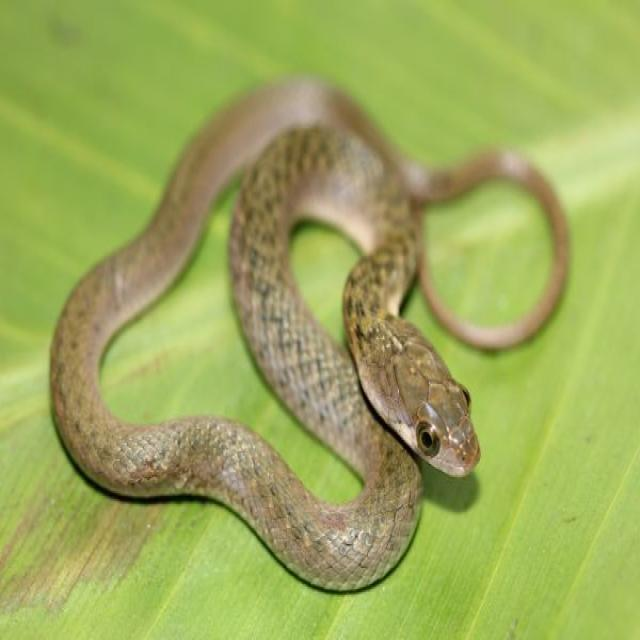Snake: (48, 71, 570, 594)
